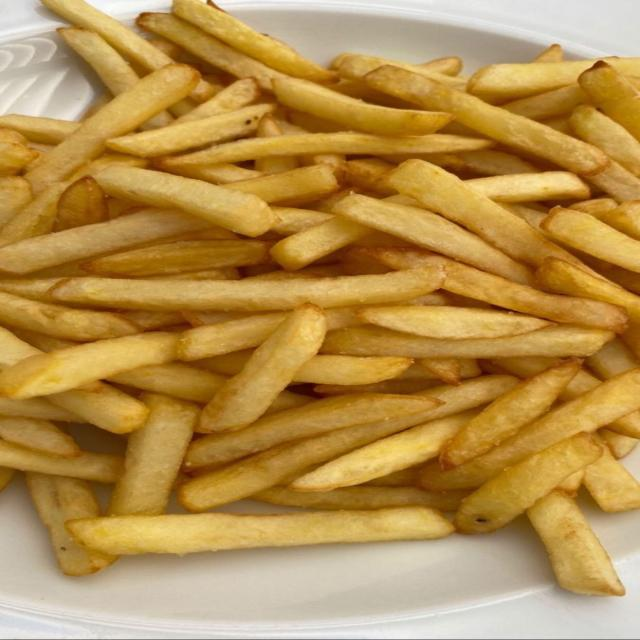potato fries: (0, 0, 639, 595), (180, 376, 515, 510), (366, 67, 609, 176), (421, 369, 639, 490), (273, 195, 532, 284), (26, 64, 198, 192), (366, 247, 627, 331), (385, 160, 566, 265), (185, 394, 432, 469), (67, 507, 454, 554), (52, 266, 443, 311), (201, 304, 327, 431), (440, 359, 581, 469), (291, 410, 476, 491), (455, 434, 603, 533), (0, 208, 207, 273), (173, 0, 334, 81), (96, 167, 274, 236), (0, 332, 179, 398), (137, 13, 283, 91), (165, 132, 493, 166), (108, 394, 199, 515), (527, 491, 624, 595), (274, 79, 452, 135), (322, 326, 613, 358), (26, 473, 115, 576), (43, 0, 173, 70), (107, 104, 274, 157), (82, 240, 269, 277), (0, 292, 139, 341), (356, 306, 552, 339), (537, 259, 639, 322), (542, 207, 639, 272), (57, 27, 139, 95), (0, 440, 122, 483), (468, 60, 608, 97), (179, 312, 286, 360), (252, 487, 468, 510), (48, 383, 147, 433), (570, 105, 639, 175), (579, 59, 639, 139), (225, 164, 338, 205), (332, 54, 465, 87), (174, 78, 260, 124), (584, 447, 639, 512), (293, 355, 411, 385), (0, 416, 81, 457), (501, 84, 585, 120), (54, 176, 108, 231), (0, 115, 79, 144), (0, 398, 86, 422), (0, 176, 32, 226), (599, 201, 639, 239), (0, 141, 38, 177), (494, 358, 559, 378)
